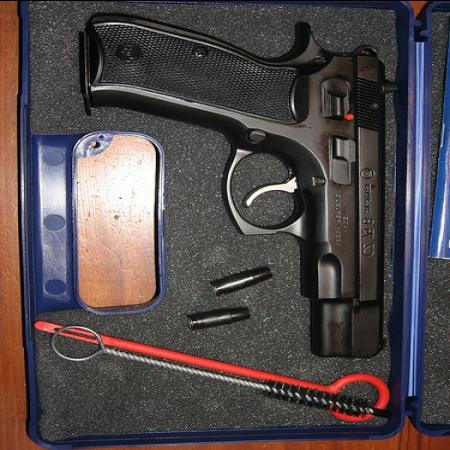Pistol: (83, 12, 390, 360)
